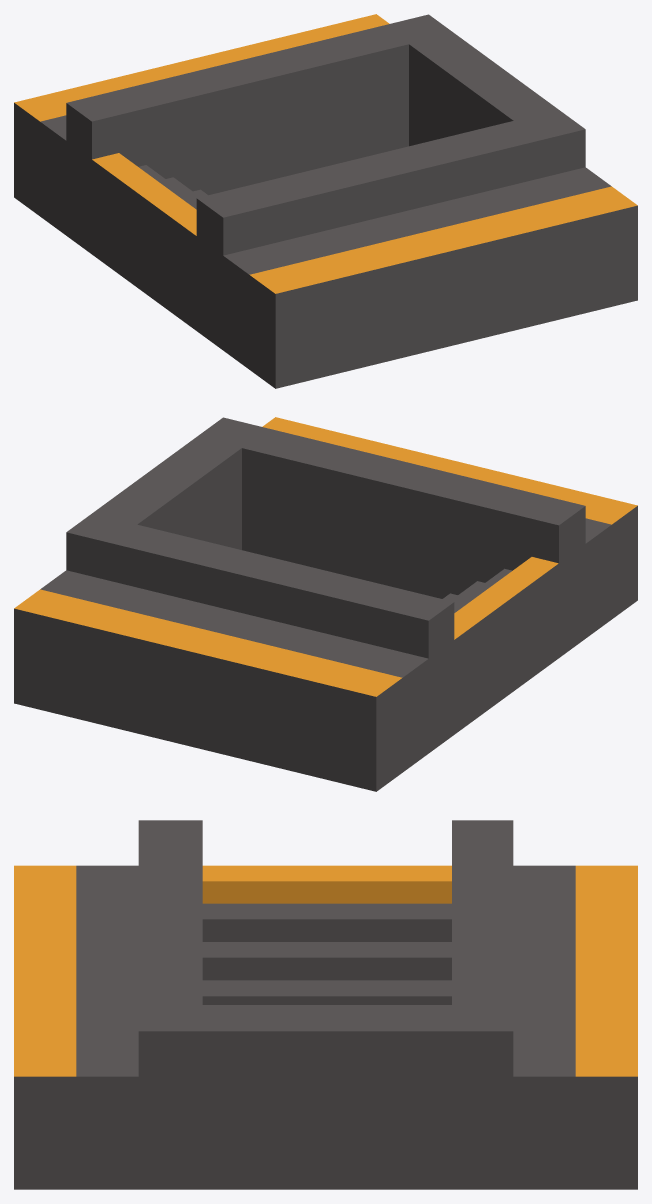
File: buildings_train-station-platform-stairs-small.fbx
The picture shows the model from 3 angles, top to bottom: view 1: azimuth 30°, elevation 25°; view 2: azimuth 150°, elevation 25°; view 3: azimuth 270°, elevation 25°; orthographic projection. The views are drawn at different scales.
Parts seen in each view (by area): view 1: buildings_train_station_platform_stairs_small; view 2: buildings_train_station_platform_stairs_small; view 3: buildings_train_station_platform_stairs_small.
Part boxes in pixels (x1,y1,x2,y2): buildings_train_station_platform_stairs_small: (14, 14, 637, 388); buildings_train_station_platform_stairs_small: (14, 417, 637, 791); buildings_train_station_platform_stairs_small: (14, 820, 637, 1189).
Bounding box in the file's own units: 160 × 56.05 × 200.
